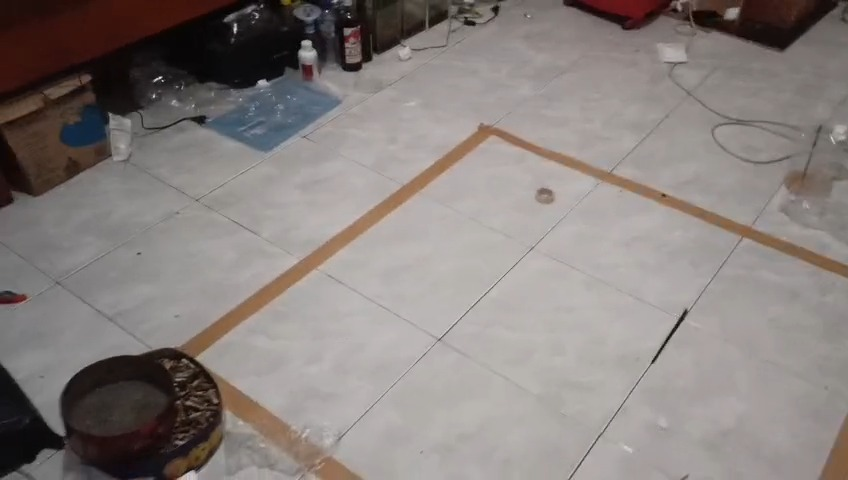floor marking: (179, 124, 847, 354), (218, 376, 301, 458)
